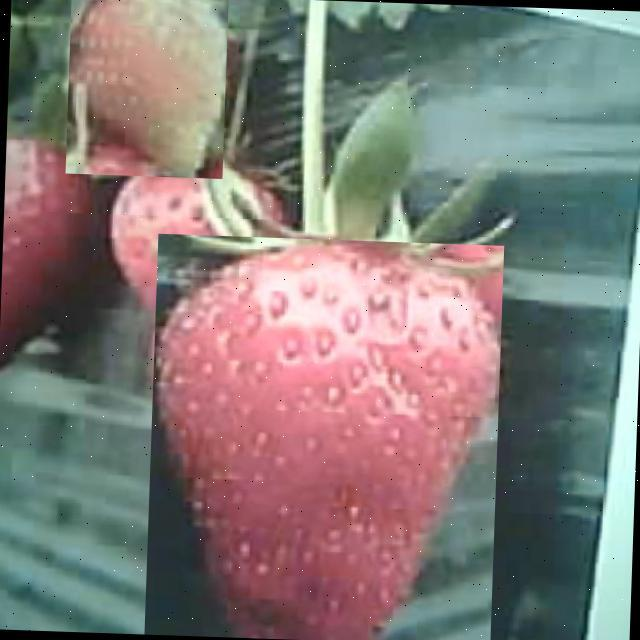ripe: (144, 233, 504, 640), (0, 141, 88, 377)
unripe: (65, 0, 228, 178)
